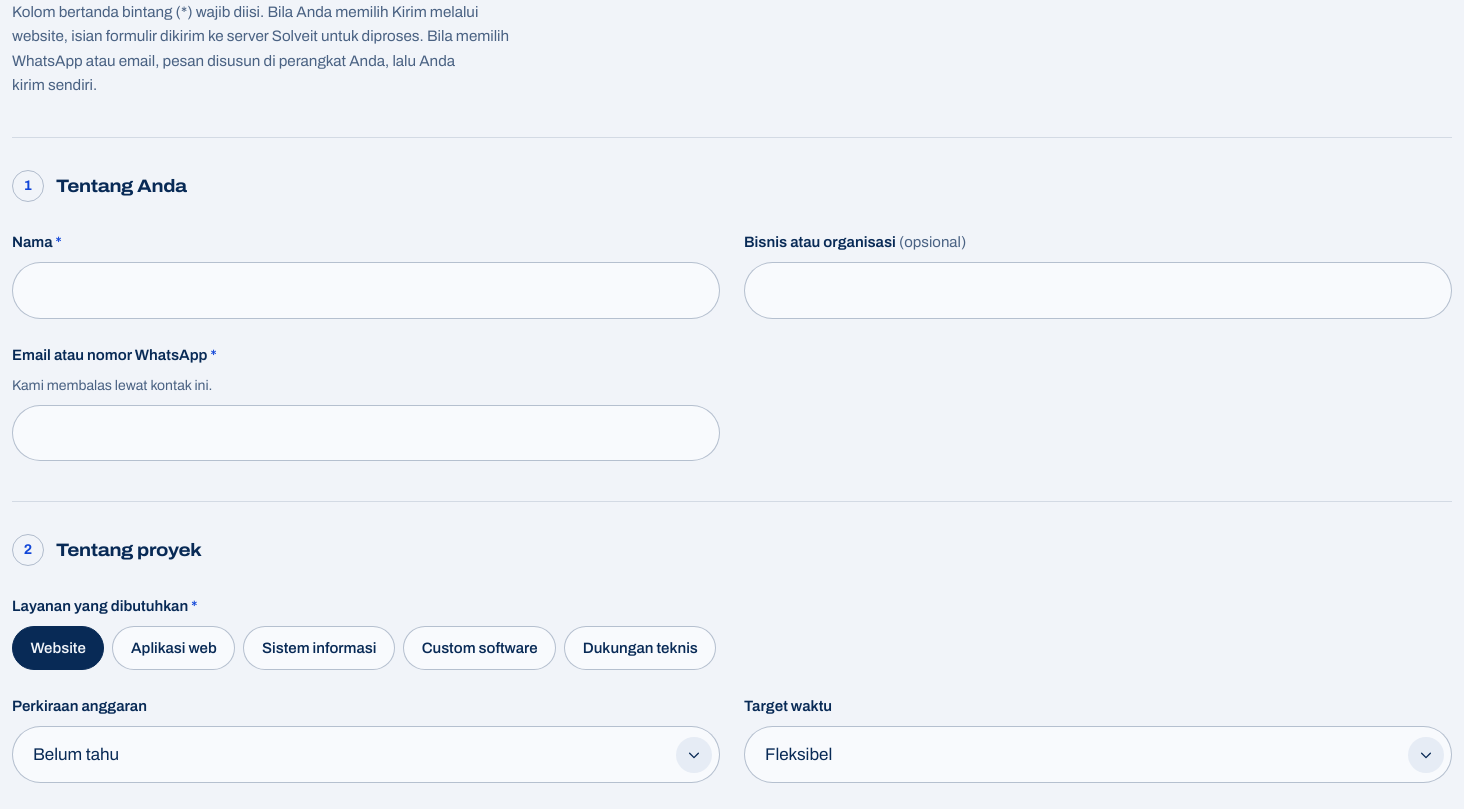
Test: InquiryForm with the website channel › maps server validation errors to localized field errors and keeps the values
Type "Rina Wulandari" into the field labelled "Nama *" at (366, 290), box [12,262,720,319]
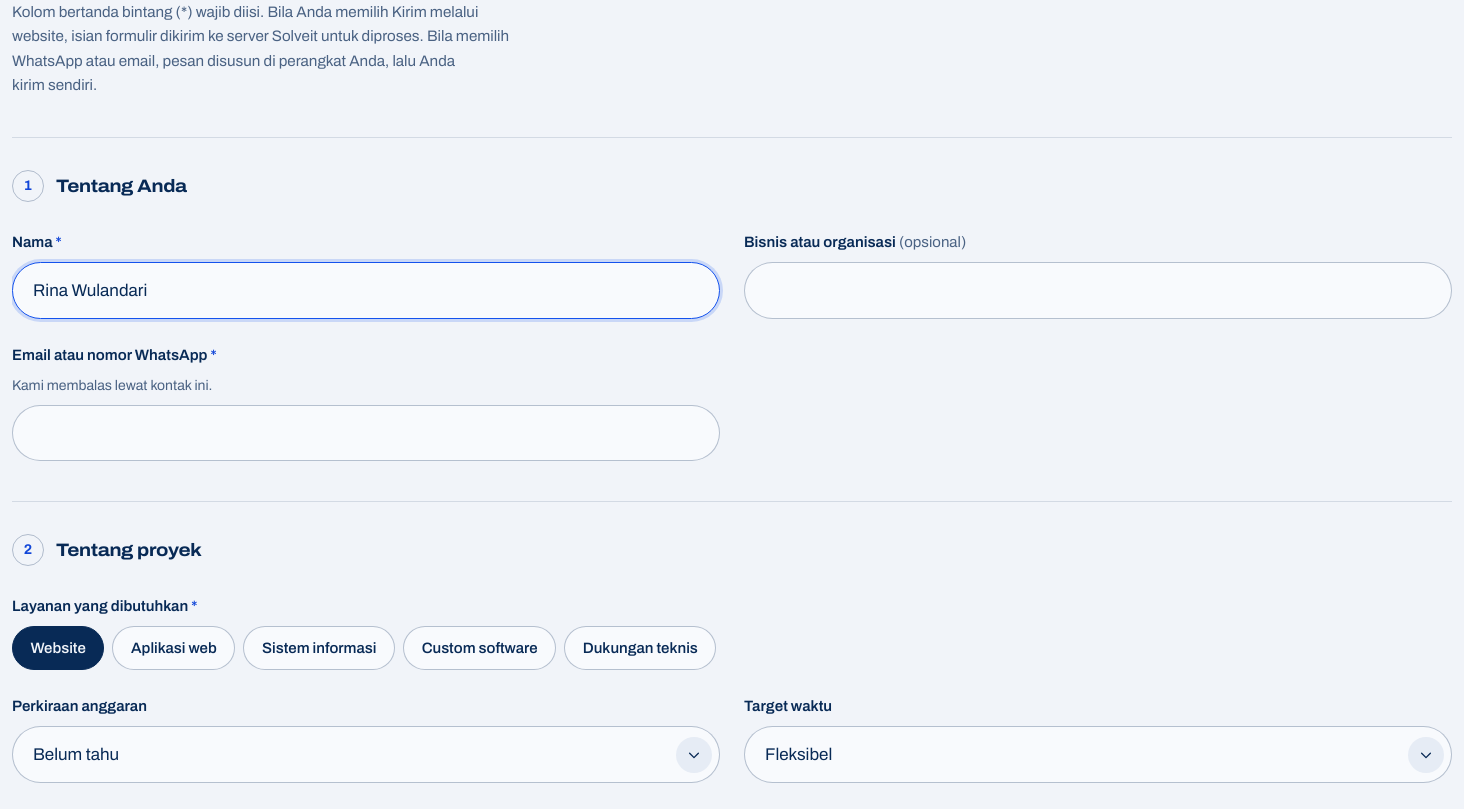
Type "rina@example.com" into the field labelled "Email atau nomor WhatsApp *" at (366, 433), box [12,405,720,461]
(page scrolled)
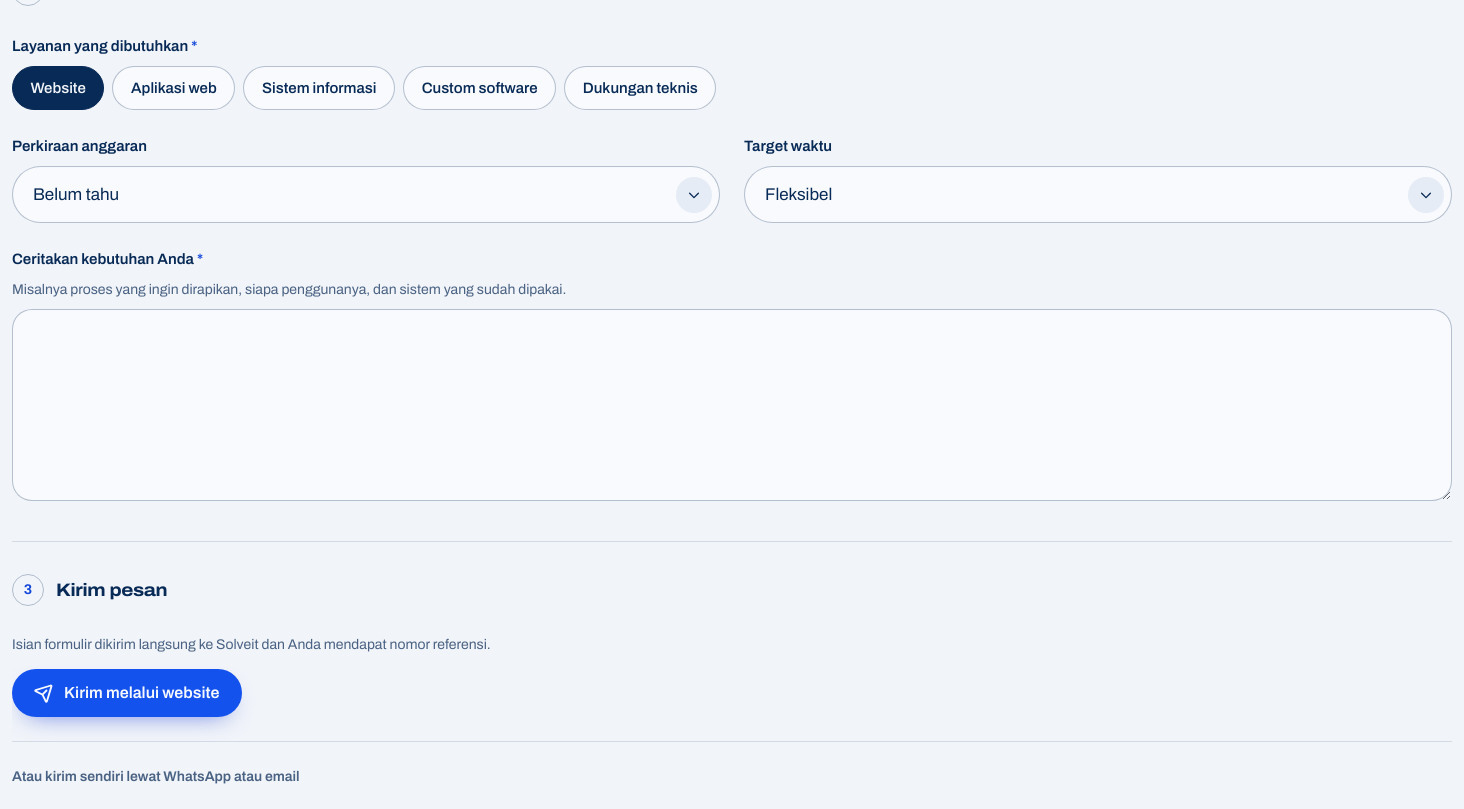
Type "Kami butuh website profil dengan katalog produk." into the text box labelled "Ceritakan kebutuhan Anda *" at (732, 405), box [12,309,1452,502]
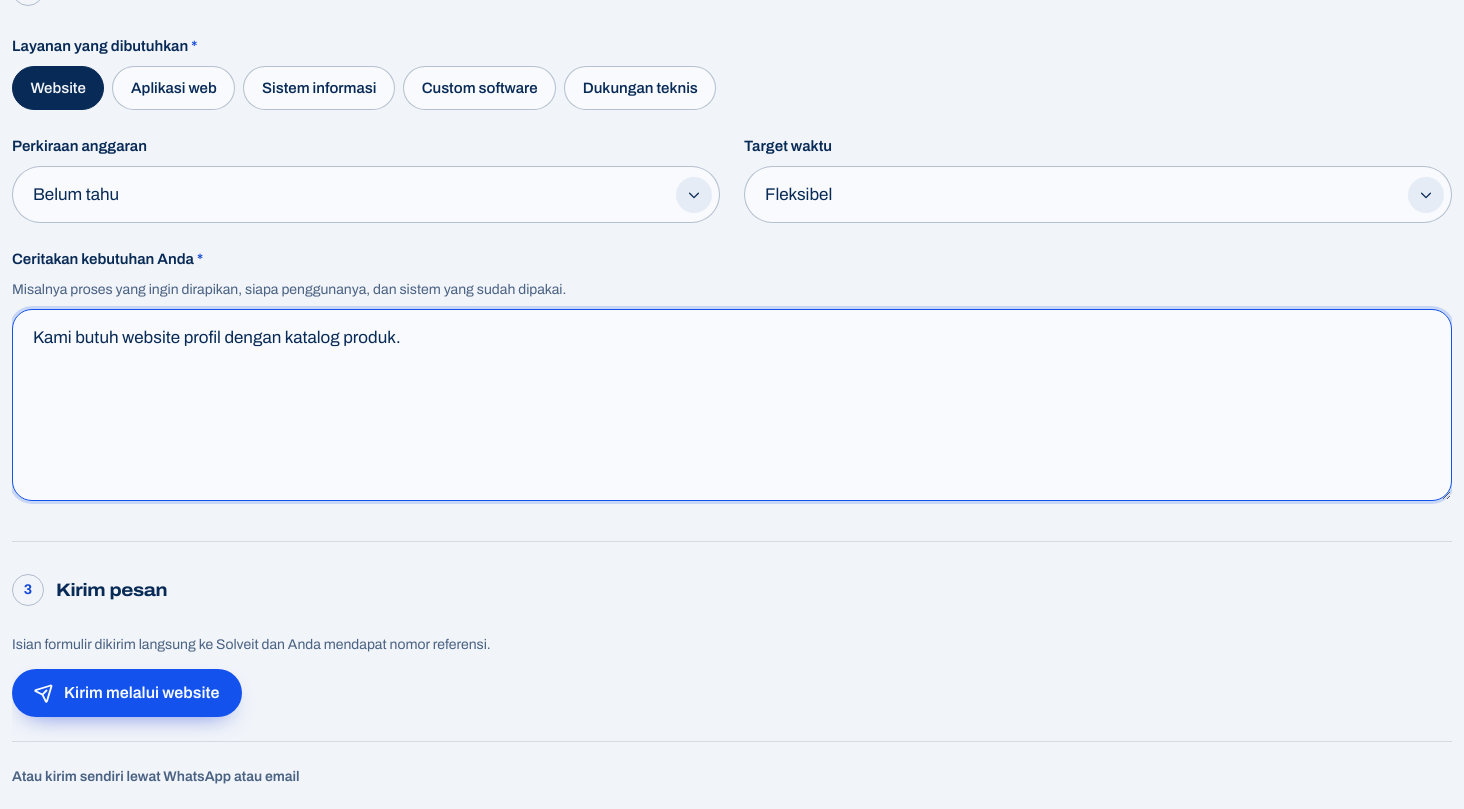
Click the button "Kirim melalui website" at (127, 693), box [12,669,242,717]
(page scrolled)
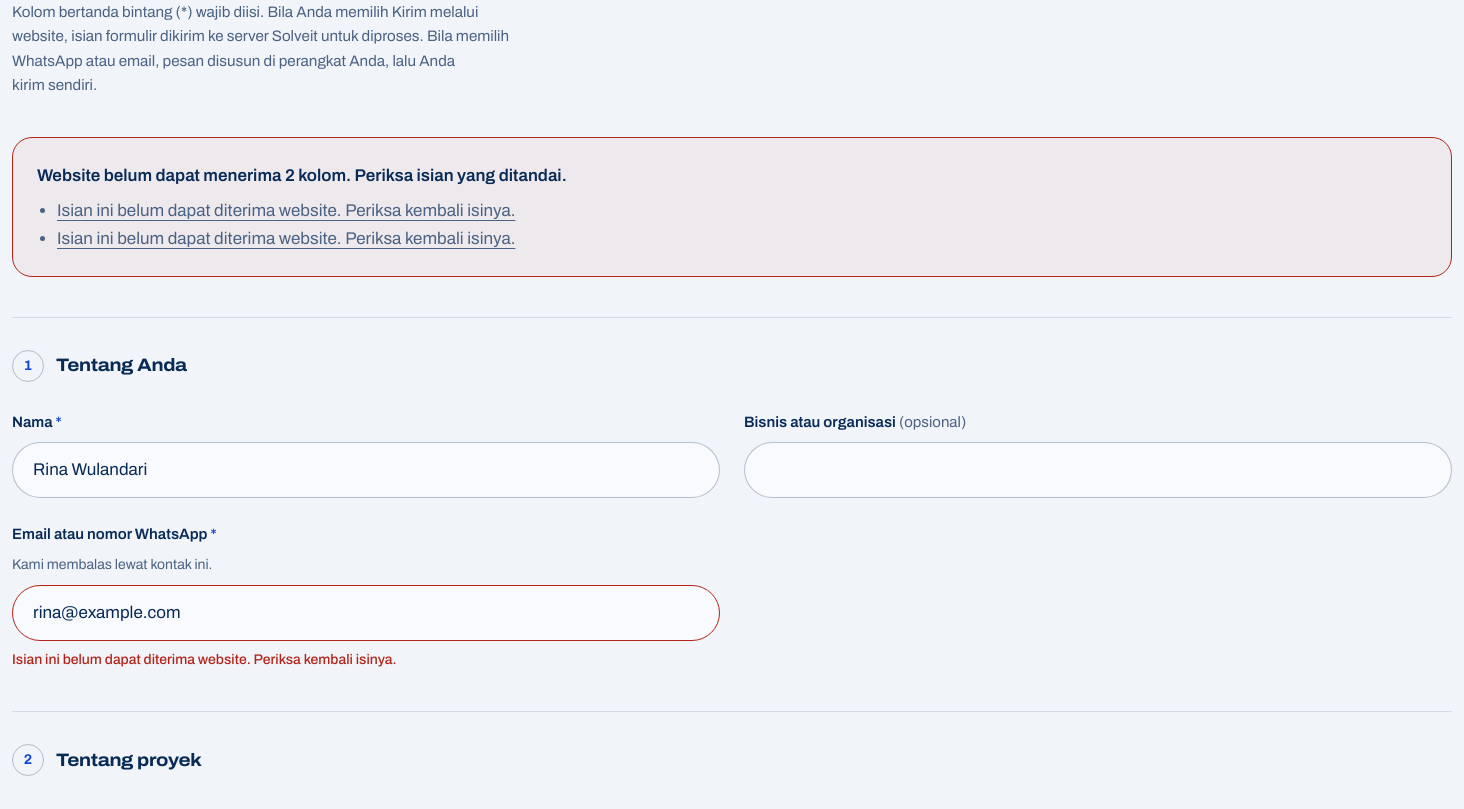
Result: the message shows "Website belum dapat menerima 2 kolom." at [37,166,567,185]
